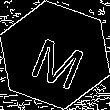M_N: (23, 23, 87, 87)
